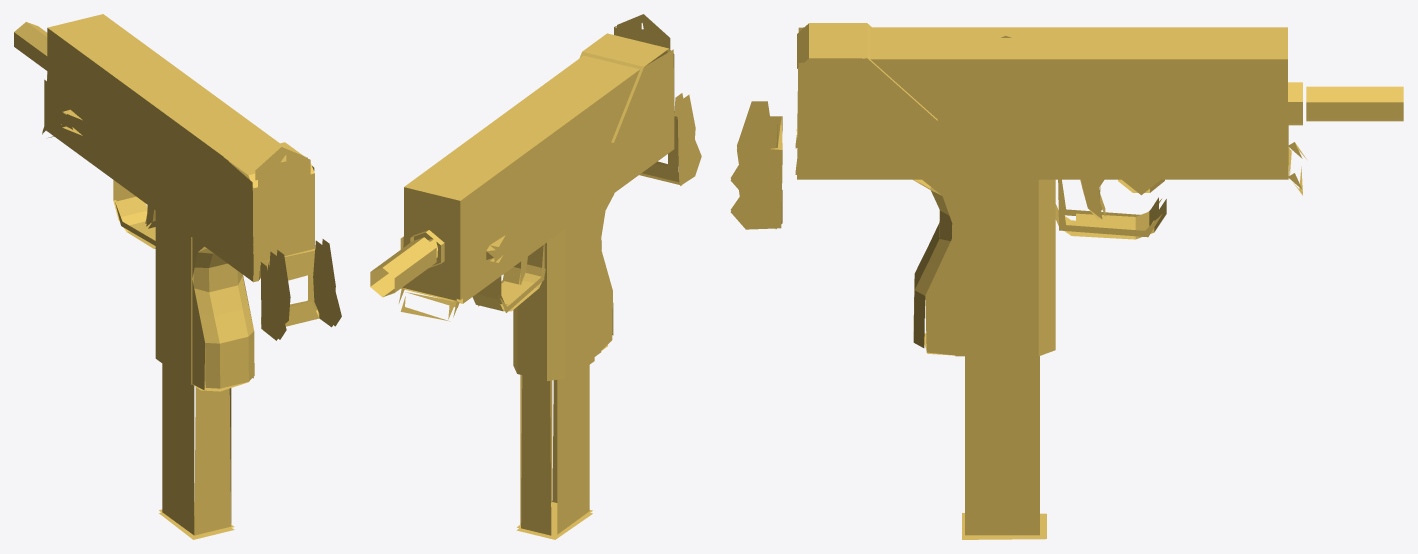
File: charm_mst_subfusil_16.glb
3 views of the same model, side by side, from view 1: azimuth 30°, elevation 25°; view 2: azimuth 150°, elevation 25°; view 3: azimuth 270°, elevation 25° (orthographic). The views are drawn at different scales.
Visible parts, largest first — view 1: p0_paint; view 2: p0_paint; view 3: p0_paint.
Boxes of the visible parts, box(x1,y1,x2,y2) form: p0_paint: box(14, 14, 341, 539); p0_paint: box(370, 14, 701, 539); p0_paint: box(730, 23, 1403, 539).
Size of the model in its own units: 0.0473 by 0.2623 by 0.3112.
